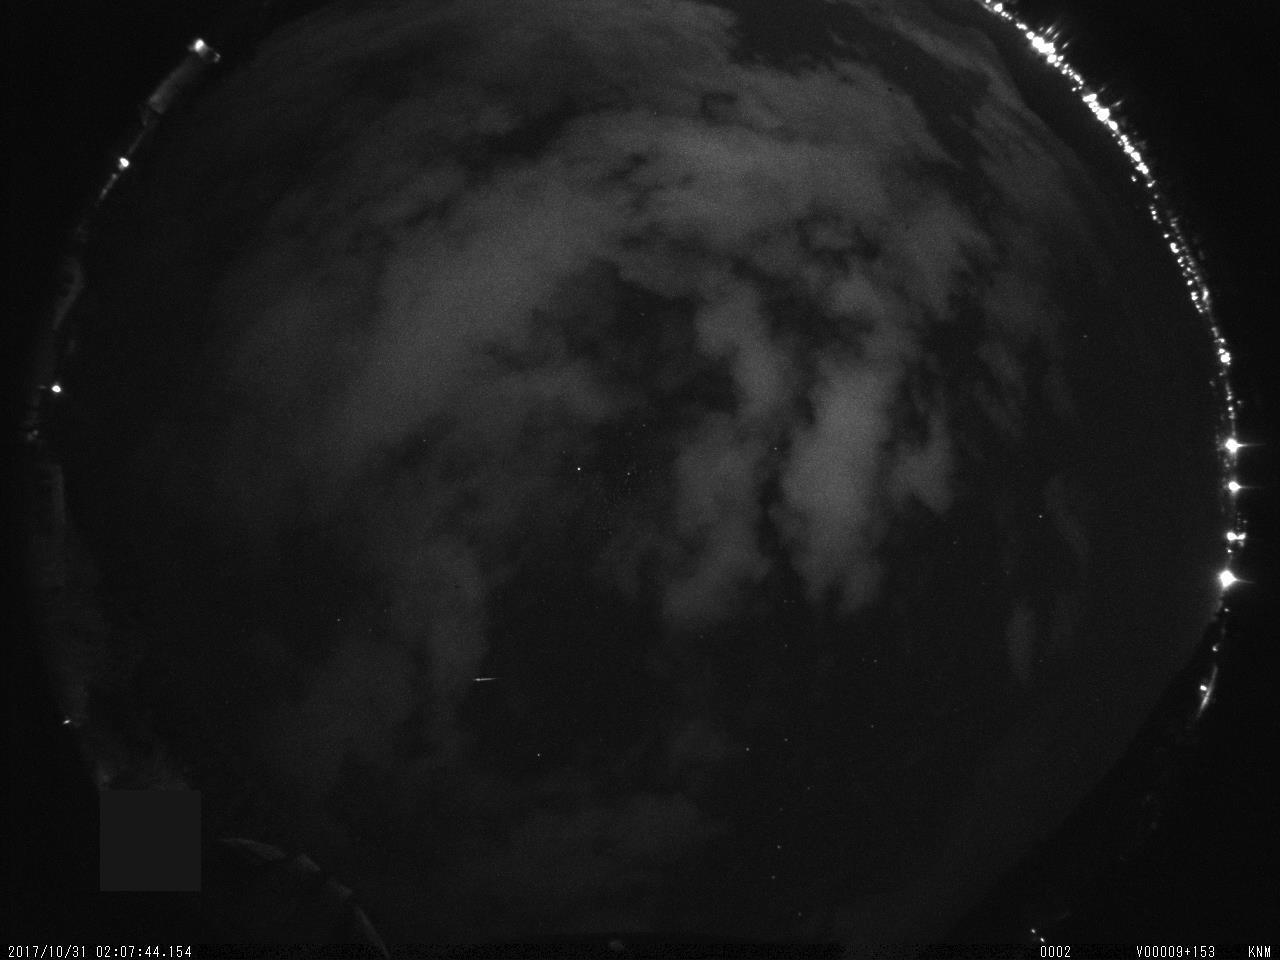Meteor: (469, 676, 500, 684)
